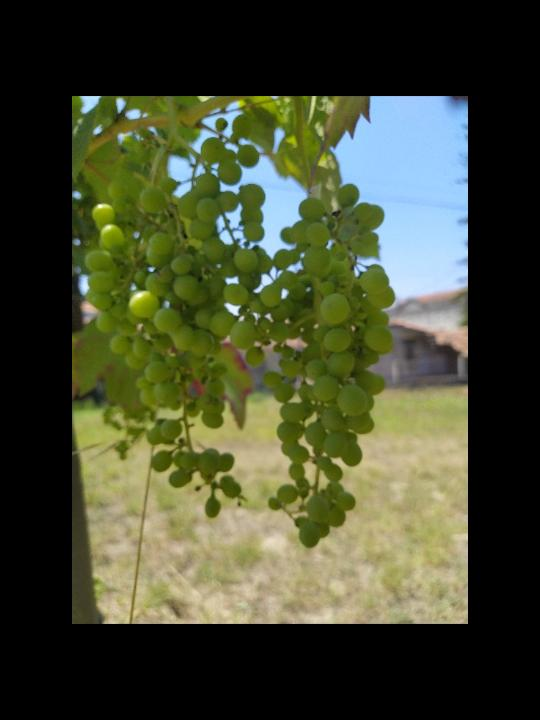grape: (85, 115, 273, 523), (259, 181, 397, 549)
